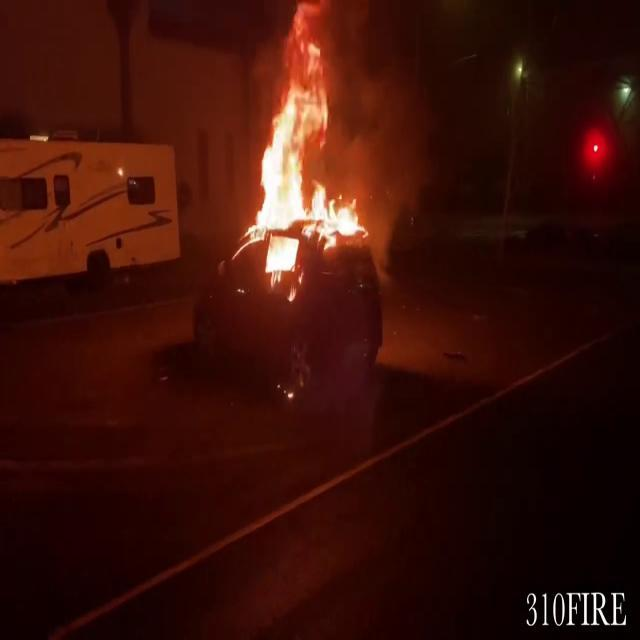Fire: (238, 13, 369, 265)
